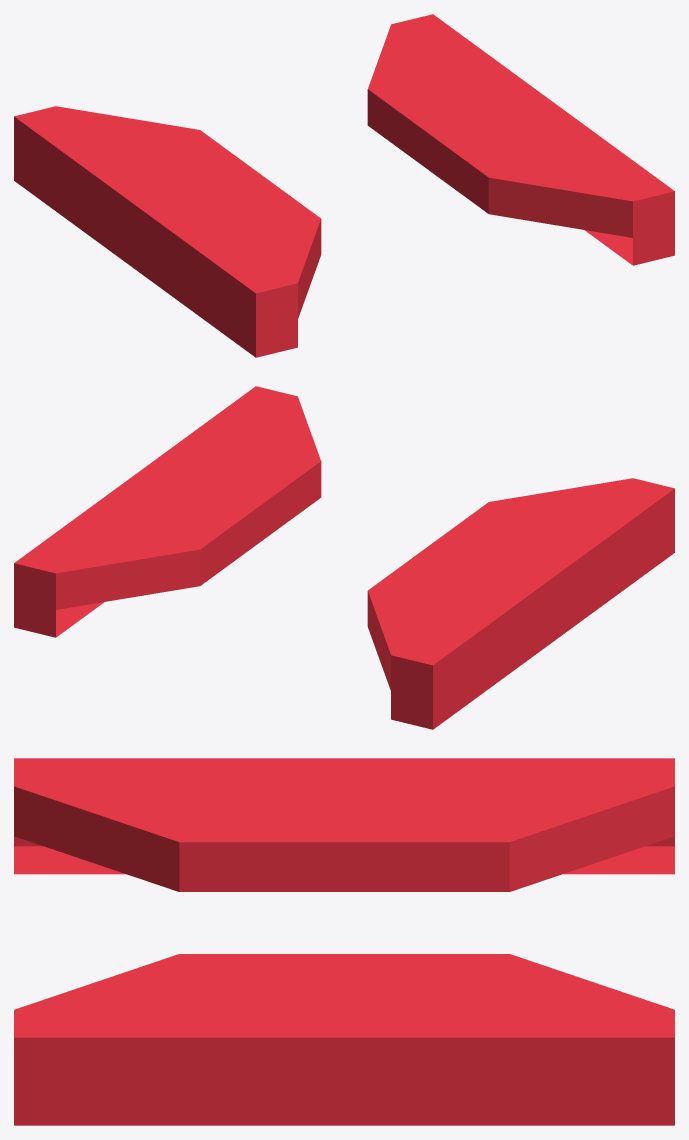
File: NarrowSquare pared.FBX
3 views of the same model, one above another, from view 1: azimuth 30°, elevation 25°; view 2: azimuth 150°, elevation 25°; view 3: azimuth 270°, elevation 25° (orthographic). The views are drawn at different scales.
Parts seen in each view (by area): view 1: narrowSquare; view 2: narrowSquare; view 3: narrowSquare.
Part boxes in pixels (box(x1,y1,x2,y2)): narrowSquare: box(14, 14, 674, 357); narrowSquare: box(14, 386, 674, 729); narrowSquare: box(14, 758, 674, 1125).
Bounding box in the file's own units: 99.99 × 14.67 × 99.99.
